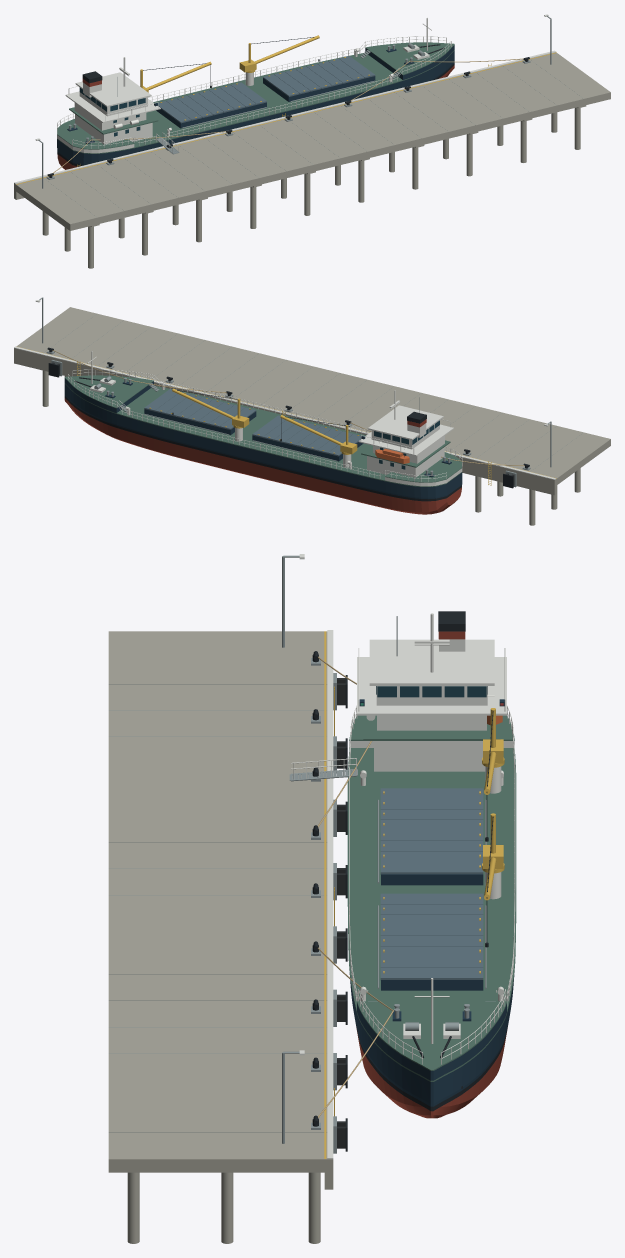
Rendered from cargo-berth.glb.
3 renders of one model, top to bottom at view 1: azimuth 30°, elevation 25°; view 2: azimuth 150°, elevation 25°; view 3: azimuth 270°, elevation 25°, orthographic. The views are drawn at different scales.
Parts seen in each view (by area): view 1: quay-aaa99e, vessel-57786c, vessel-e2e4df, vessel-617783, vessel-253e50, quay-e2e4df, vessel-dab553, quay-8f9b9d, quay-dab553, vessel-8f9b9d, vessel-242b30, connections-bda77d (+1 smaller); view 2: quay-aaa99e, vessel-57786c, vessel-253e50, vessel-e2e4df, vessel-974637, vessel-617783, vessel-242b30, quay-e2e4df, vessel-dab553, quay-8f9b9d, vessel-8f9b9d, quay-242b30 (+4 smaller); view 3: quay-aaa99e, vessel-57786c, vessel-e2e4df, vessel-617783, vessel-253e50, quay-8f9b9d, quay-e2e4df, vessel-974637, vessel-dab553, quay-303436, vessel-242b30, quay-dab553 (+3 smaller).
Boxes of the visible parts, box(x1,y1,x2,y2) form: quay-aaa99e: box(14, 53, 610, 268); vessel-57786c: box(57, 42, 454, 153); vessel-e2e4df: box(57, 17, 451, 153); vessel-617783: box(158, 56, 375, 123); vessel-253e50: box(57, 45, 454, 165); quay-e2e4df: box(14, 14, 555, 184); vessel-dab553: box(140, 35, 369, 120); quay-8f9b9d: box(38, 15, 579, 214); quay-dab553: box(16, 52, 556, 184); vessel-8f9b9d: box(68, 43, 425, 142); vessel-242b30: box(57, 37, 454, 166); connections-bda77d: box(53, 58, 523, 172); quay-aaa99e: box(14, 307, 610, 525); vessel-57786c: box(64, 375, 462, 486); vessel-253e50: box(64, 378, 462, 498); vessel-e2e4df: box(68, 351, 462, 486); vessel-974637: box(64, 398, 461, 514); vessel-617783: box(144, 389, 361, 456); vessel-242b30: box(64, 377, 461, 501); quay-e2e4df: box(14, 300, 556, 479); vessel-dab553: box(149, 388, 359, 454); quay-8f9b9d: box(39, 297, 582, 487); vessel-8f9b9d: box(94, 376, 450, 475); quay-242b30: box(47, 347, 529, 488); quay-aaa99e: box(108, 631, 333, 1243); vessel-57786c: box(347, 715, 516, 1081); vessel-e2e4df: box(349, 613, 515, 1064); vessel-617783: box(380, 788, 483, 980); vessel-253e50: box(349, 699, 514, 1106); quay-8f9b9d: box(109, 555, 336, 1153); quay-e2e4df: box(299, 554, 333, 1159); vessel-974637: box(356, 631, 507, 1118); vessel-dab553: box(383, 708, 504, 973); quay-303436: box(337, 678, 345, 1148); vessel-242b30: box(356, 611, 507, 1111); quay-dab553: box(324, 631, 334, 1158).
Size of the model in its own units: 100 by 22.8 by 32.65.
